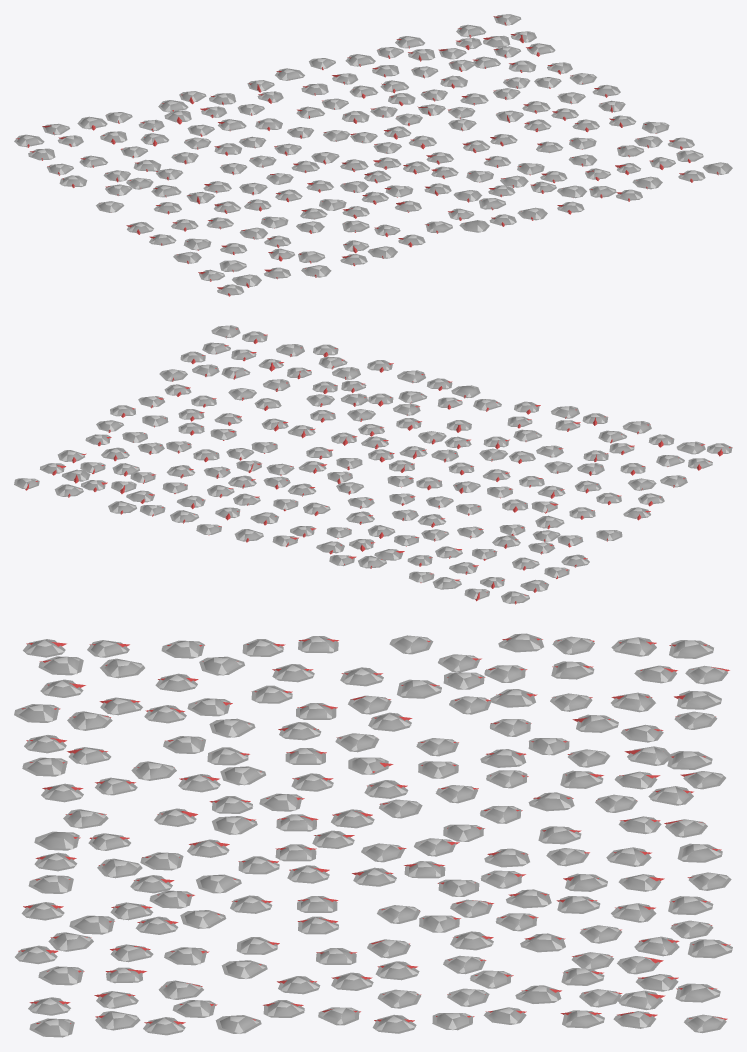
The model's file is s_gm_suspension_normal_stones_actualstones.dae.
3 renders of one model, top to bottom at view 1: azimuth 30°, elevation 25°; view 2: azimuth 150°, elevation 25°; view 3: azimuth 270°, elevation 25°, orthographic. The views are drawn at different scales.
Visible parts, largest first — view 1: s_gm_suspension_normal_stones_actualstones_a1000, s_gm_suspension_normal_stones_actualstones_a200, Colmesh_s_gm_suspension_normal_stones_actualstones-1; view 2: s_gm_suspension_normal_stones_actualstones_a1000, s_gm_suspension_normal_stones_actualstones_a200, Colmesh_s_gm_suspension_normal_stones_actualstones-1; view 3: s_gm_suspension_normal_stones_actualstones_a1000, s_gm_suspension_normal_stones_actualstones_a200, Colmesh_s_gm_suspension_normal_stones_actualstones-1.
Part boxes in pixels (x1,y1,x2,y2): s_gm_suspension_normal_stones_actualstones_a1000: [14, 14, 732, 295]; s_gm_suspension_normal_stones_actualstones_a200: [21, 15, 725, 293]; Colmesh_s_gm_suspension_normal_stones_actualstones-1: [16, 16, 718, 296]; s_gm_suspension_normal_stones_actualstones_a1000: [14, 325, 732, 603]; s_gm_suspension_normal_stones_actualstones_a200: [17, 325, 728, 603]; Colmesh_s_gm_suspension_normal_stones_actualstones-1: [25, 328, 732, 604]; s_gm_suspension_normal_stones_actualstones_a1000: [14, 633, 732, 1037]; s_gm_suspension_normal_stones_actualstones_a200: [14, 634, 732, 1036]; Colmesh_s_gm_suspension_normal_stones_actualstones-1: [18, 638, 730, 1024].
Size of the model in its own units: 7.87 by 5.92 by 0.0598.
